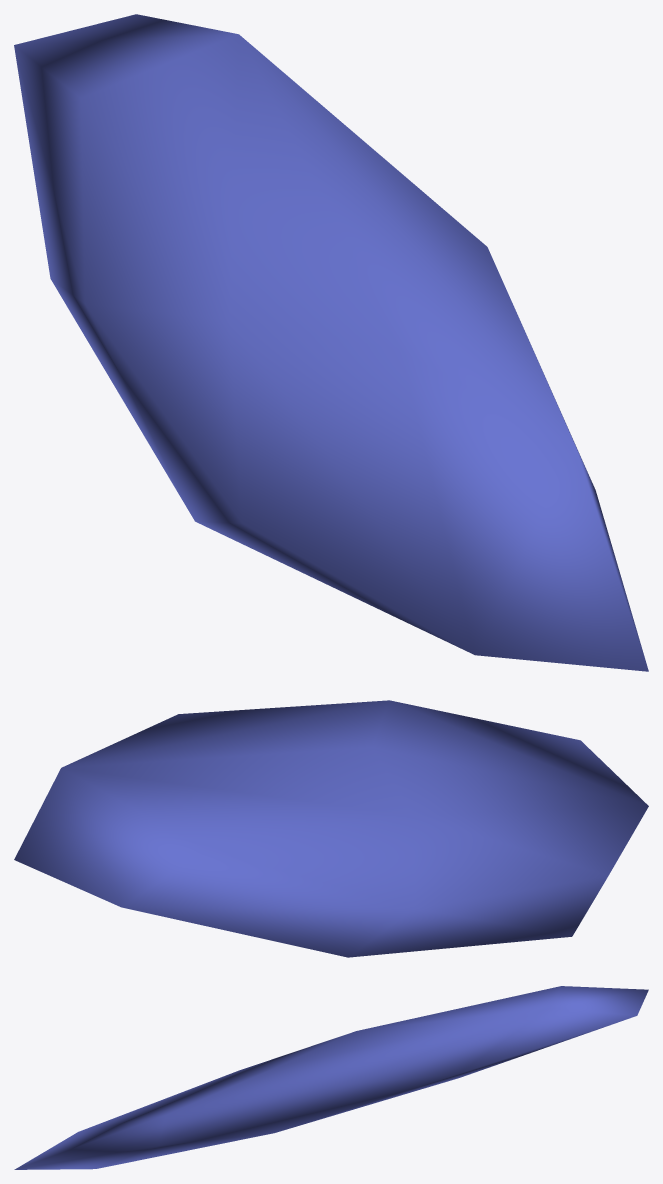
3 views of the same model, one above another, from view 1: azimuth 30°, elevation 25°; view 2: azimuth 150°, elevation 25°; view 3: azimuth 270°, elevation 25° (orthographic). The views are drawn at different scales.
Parts seen in each view (by area): view 1: VA_CF; view 2: VA_CF; view 3: VA_CF.
Part boxes in pixels (bbox=[...]): VA_CF: bbox=[14, 14, 648, 671]; VA_CF: bbox=[14, 700, 648, 957]; VA_CF: bbox=[14, 986, 648, 1169].
Size of the model in its own units: 2.64 by 2.36 by 7.35.
